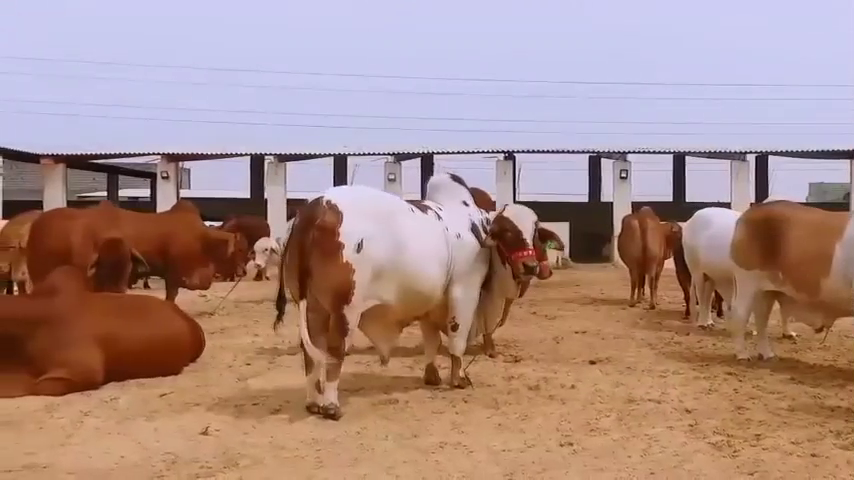bo: (276, 160, 559, 428), (2, 256, 221, 416), (739, 178, 854, 370), (97, 179, 250, 312), (12, 196, 146, 296), (664, 201, 753, 331), (609, 187, 687, 324), (241, 224, 284, 289)
